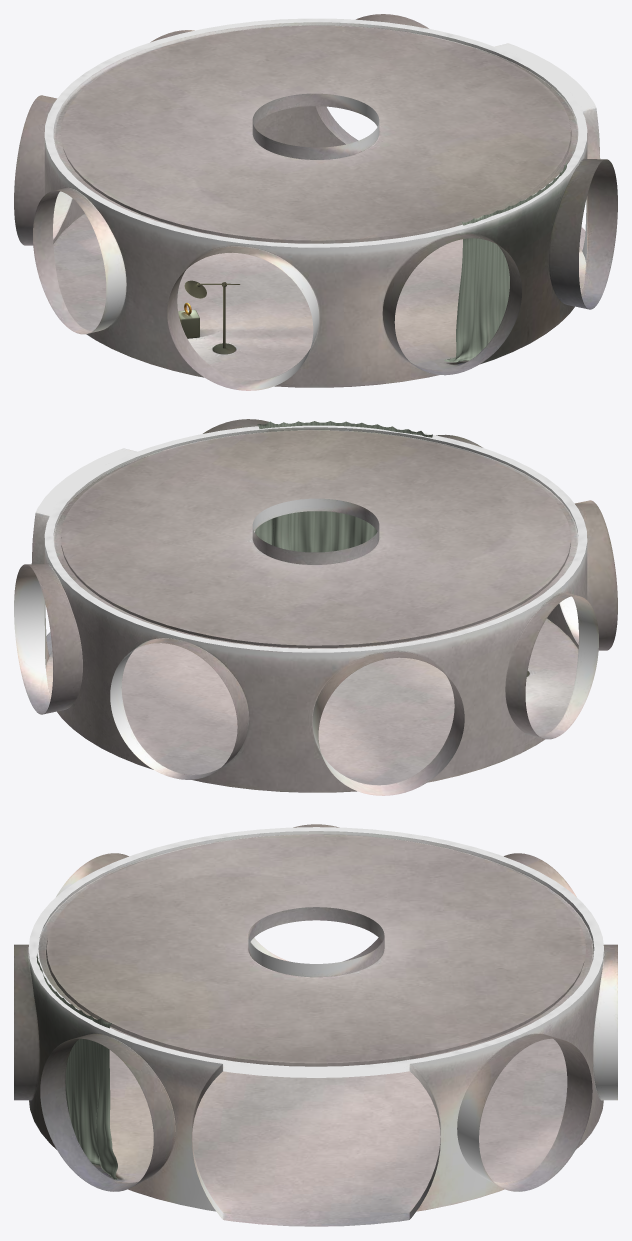
The model's file is environment2.glb.
3 renders of one model, top to bottom at view 1: azimuth 30°, elevation 25°; view 2: azimuth 150°, elevation 25°; view 3: azimuth 270°, elevation 25°, orthographic. The views are drawn at different scales.
Parts seen in each view (by area): view 1: enviro2, Cotina, Cylinder.011; view 2: enviro2, Cotina; view 3: enviro2, Cotina.
Boxes of the visible parts, x1=… form: enviro2: x1=14, y1=14, x2=617, y2=390; Cotina: x1=444, y1=160, x2=567, y2=362; Cylinder.011: x1=178, y1=280, x2=240, y2=354; enviro2: x1=14, y1=419, x2=617, y2=795; Cotina: x1=255, y1=421, x2=432, y2=552; enviro2: x1=14, y1=824, x2=617, y2=1226; Cotina: x1=36, y1=954, x2=117, y2=1179.
Bounding box in the file's own units: 22.18 × 6.54 × 22.05.
3 materials, 3 textured.
